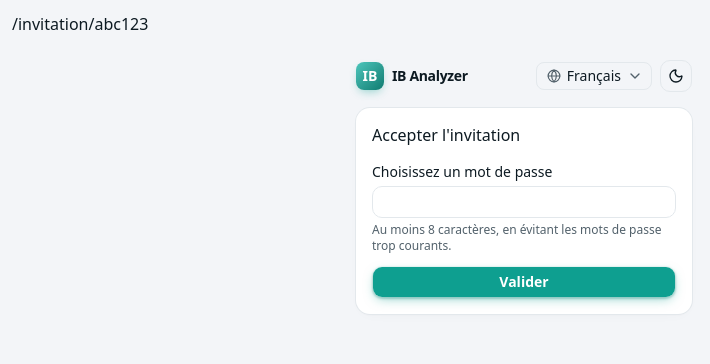
Test: InvitationPage › shows the server's detail when the password is refused
The width and height of the screenshot is (710, 364).
In the password field labelled "Choisissez un mot de passe": [524, 202] box [372,186,676,218], type "password"
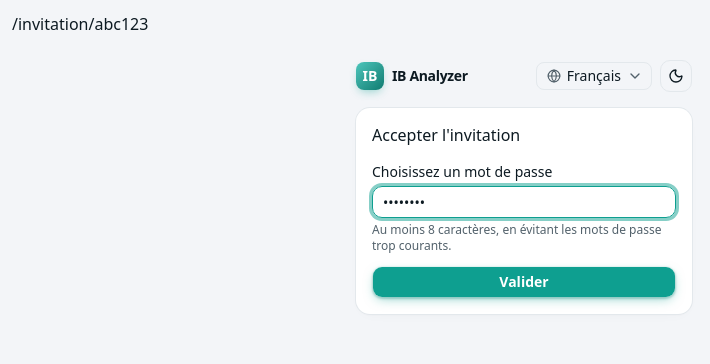
Click the button "Valider": [524, 282] box [372,266,676,298]
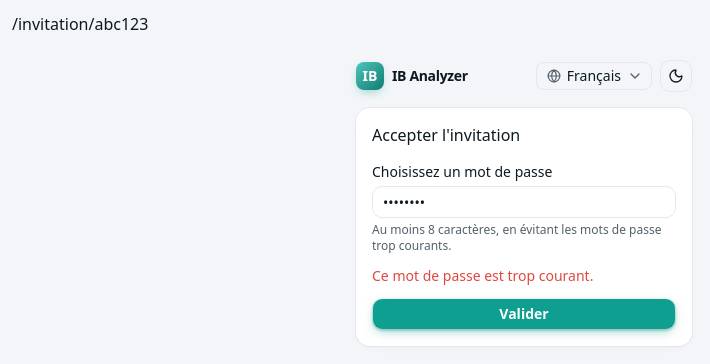
Now the message reads "Ce mot de passe est trop courant.", box [372,266,593,285]
